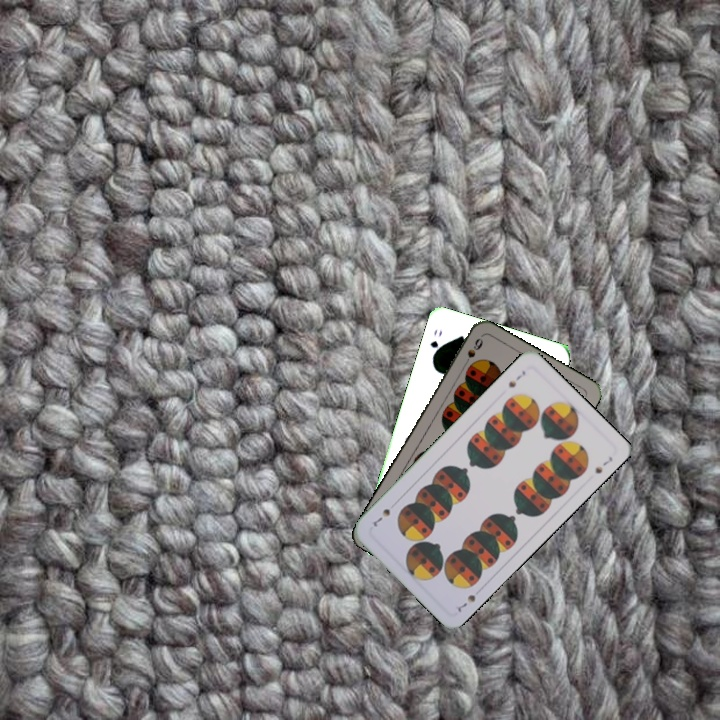GO: (426, 326, 445, 362)
S7: (452, 591, 478, 615), (504, 366, 528, 390)
S9: (459, 334, 486, 371)
